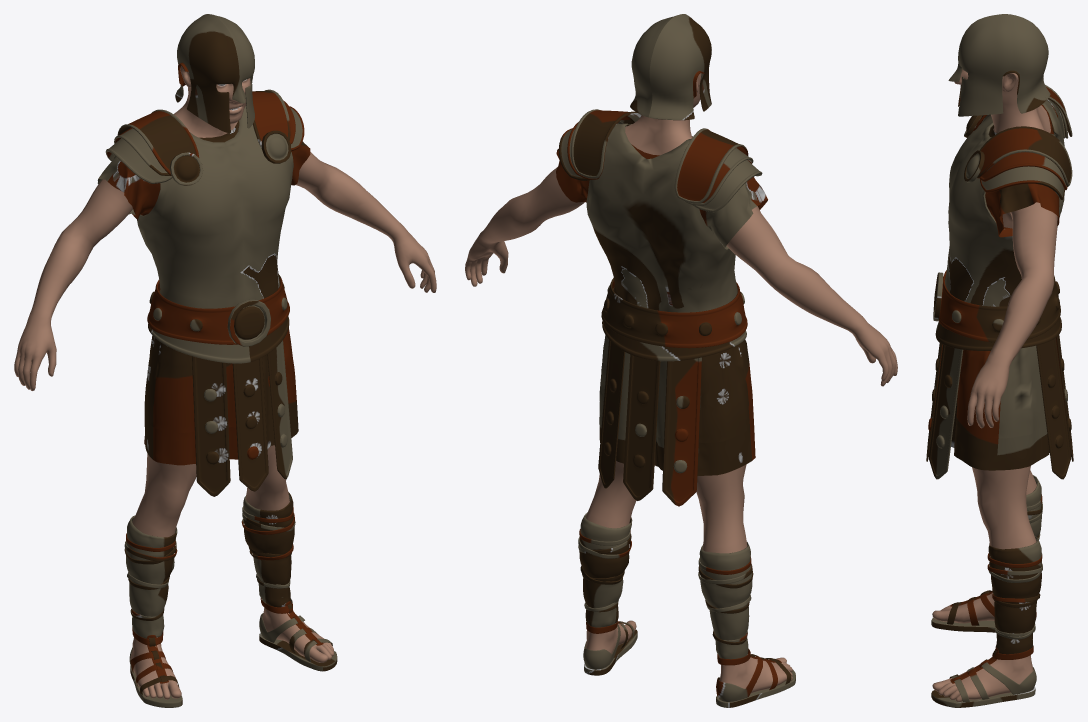
The model's file is amored_player_character_4k_norugh.fbx.
3 views of the same model, side by side, from view 1: azimuth 30°, elevation 25°; view 2: azimuth 150°, elevation 25°; view 3: azimuth 270°, elevation 25° (orthographic). The views are drawn at different scales.
Parts seen in each view (by area): view 1: 4_low, 3_low, 1_low, 2_low; view 2: 4_low, 3_low, 1_low, 2_low; view 3: 4_low, 3_low, 1_low, 2_low.
Part boxes in pixels (x1,y1,x2,y2): 4_low: (125,14,321,682); 3_low: (105,89,332,695); 1_low: (14,65,436,699); 2_low: (97,100,337,707); 4_low: (579,14,779,661); 3_low: (558,109,791,701); 1_low: (465,73,897,693); 2_low: (556,115,795,707); 4_low: (945,14,1064,681); 3_low: (926,85,1073,702); 1_low: (932,69,1057,701); 2_low: (931,99,1068,707).
Size of the model in its own units: 123 by 184 by 37.82.
